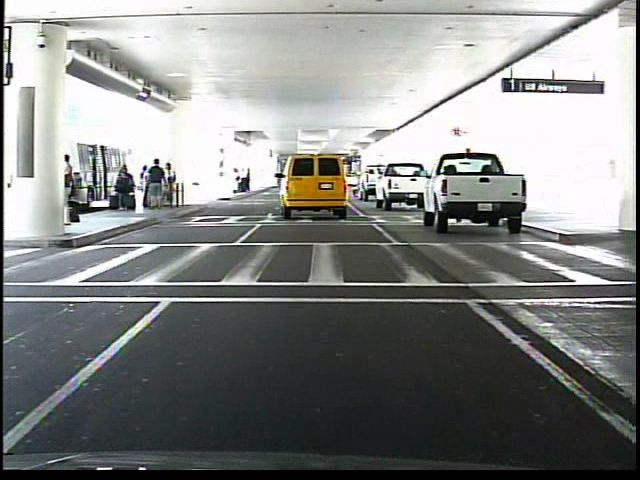person: (60, 147, 79, 233)
